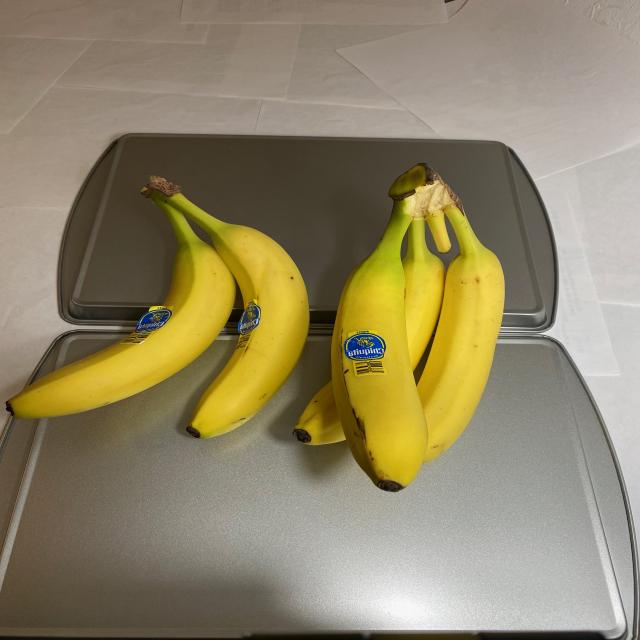banana: (2, 155, 315, 445), (290, 162, 510, 508)
